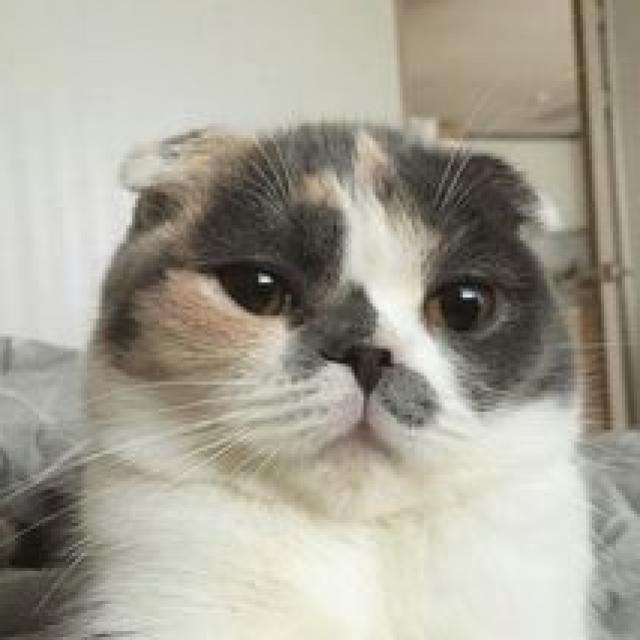Scottish Fold: (48, 108, 604, 640)
